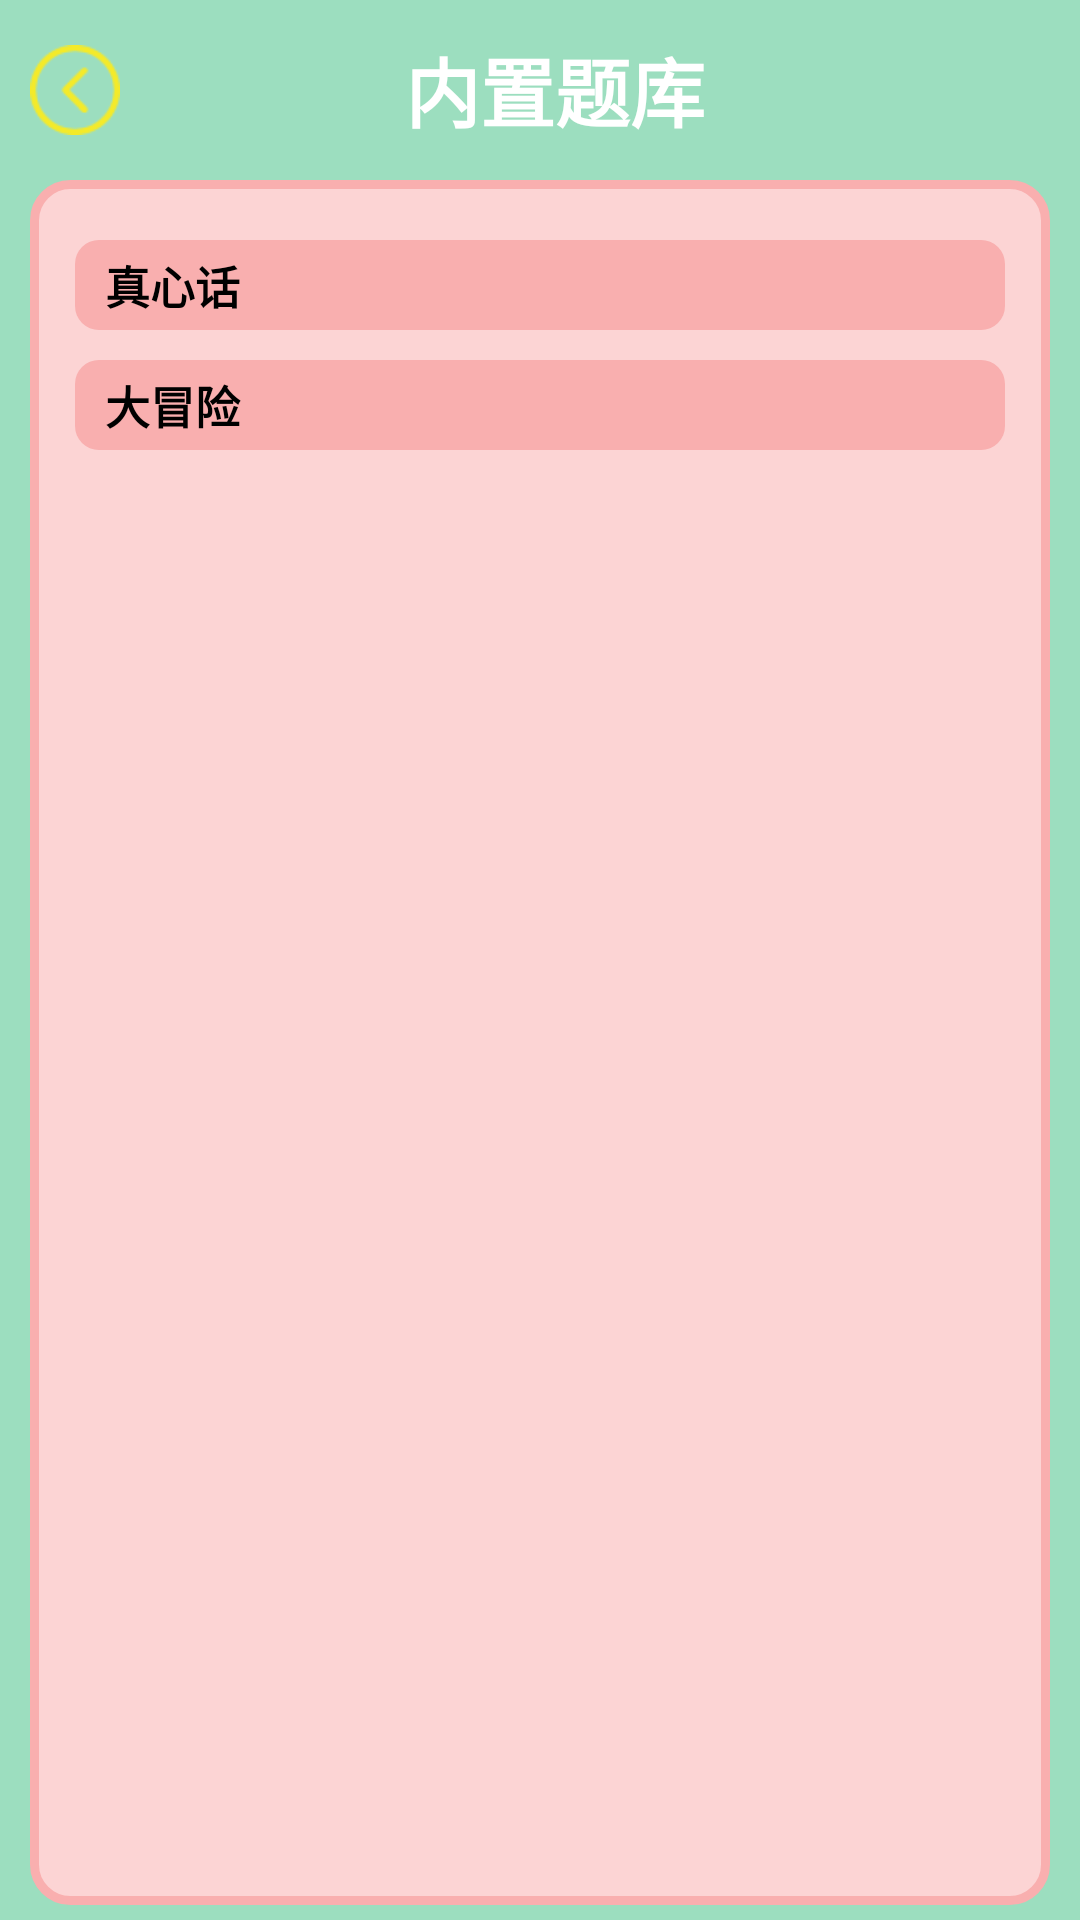

Screen size 1080px x 1920px. Icon name, then its center in pixels as (x,y):
back: (75,90)
